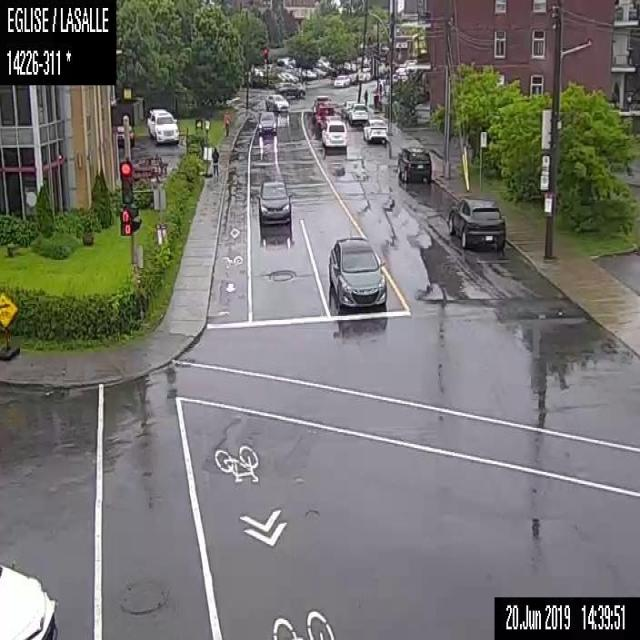pedestrian: (210, 147, 219, 180), (224, 115, 230, 138), (363, 88, 368, 106)
vehicle: (326, 236, 386, 316), (0, 561, 60, 639), (446, 196, 505, 248), (256, 177, 294, 223), (396, 145, 433, 184), (145, 106, 179, 142), (319, 118, 348, 148), (311, 94, 334, 127), (361, 118, 386, 142), (254, 108, 276, 134), (264, 92, 289, 112), (275, 80, 304, 97), (115, 123, 133, 146), (348, 102, 368, 122), (341, 100, 357, 119), (333, 74, 350, 86)
